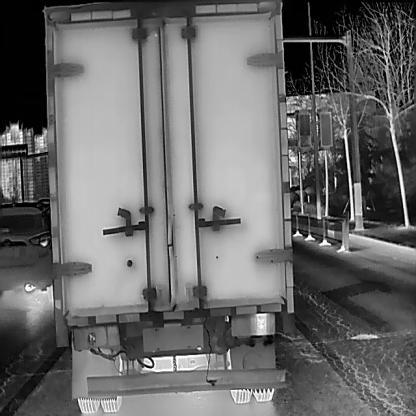car: (39, 0, 294, 413), (0, 195, 51, 297)
